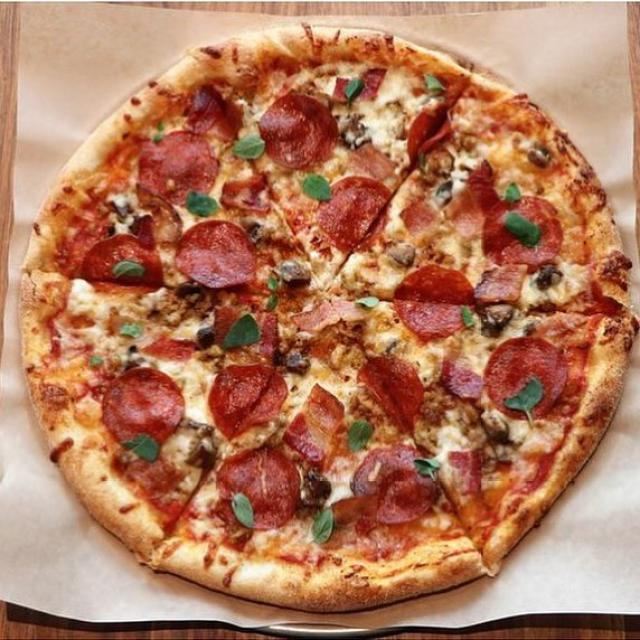mushrooms: (480, 409, 514, 466), (274, 257, 317, 291), (299, 469, 331, 507), (185, 433, 220, 465), (170, 322, 212, 347), (386, 236, 418, 268), (284, 343, 315, 374), (477, 298, 505, 329)
pepperoni: (217, 442, 302, 532), (171, 210, 262, 292), (97, 363, 181, 451), (487, 333, 567, 422), (353, 442, 435, 526), (393, 260, 472, 341), (481, 188, 560, 266), (259, 86, 335, 166), (140, 128, 214, 209), (210, 353, 282, 435), (311, 171, 385, 248), (356, 355, 426, 430), (83, 228, 160, 294), (405, 103, 464, 159), (440, 356, 484, 400)
pizza: (16, 26, 639, 618)
